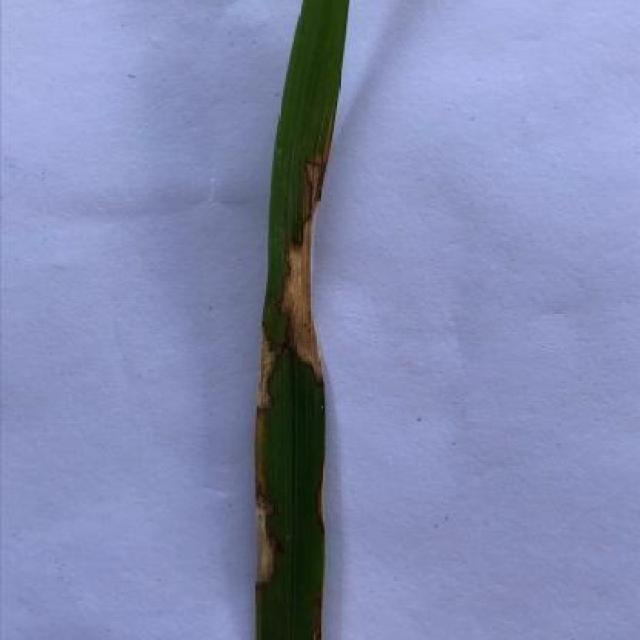Brown_Spot: (249, 0, 360, 640)
